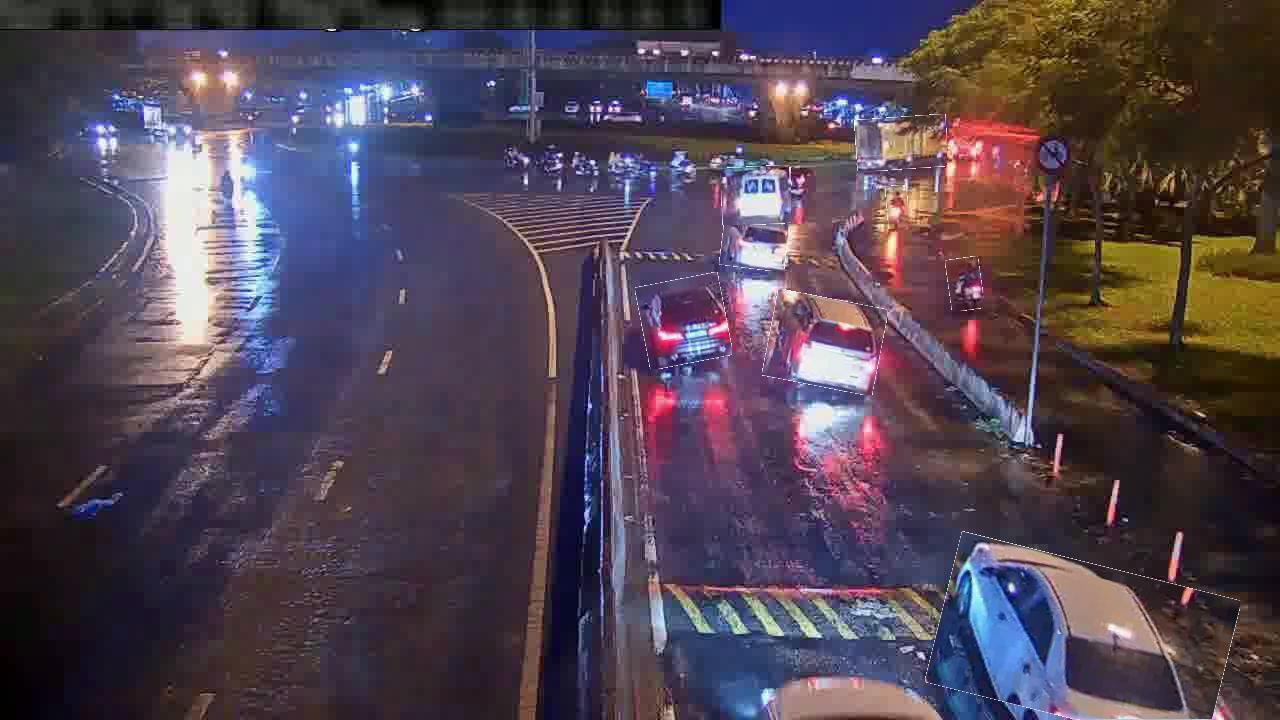14: (722, 166, 792, 226)
8: (855, 116, 948, 171)
container: (932, 547, 1235, 719), (766, 294, 885, 392), (638, 276, 730, 367), (721, 215, 788, 271)
motorbike: (947, 257, 983, 311), (886, 186, 909, 230)
